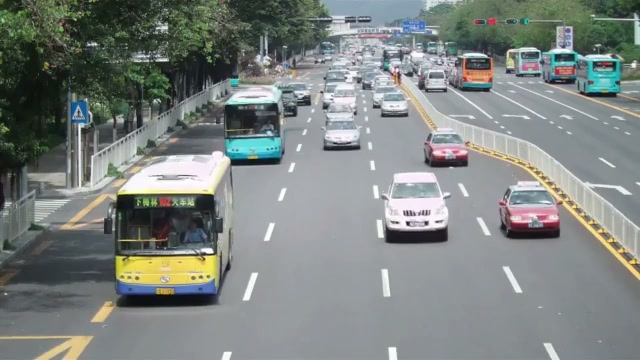bus: (103, 151, 235, 298), (224, 85, 285, 163), (575, 54, 622, 96), (458, 51, 494, 91), (541, 48, 580, 84), (505, 47, 541, 77)
car: (381, 171, 451, 243), (497, 182, 561, 239), (423, 130, 469, 168), (322, 113, 361, 150), (380, 92, 410, 117), (423, 70, 448, 93)
pedestrian: (183, 217, 208, 243)
truck: (576, 53, 622, 96)
